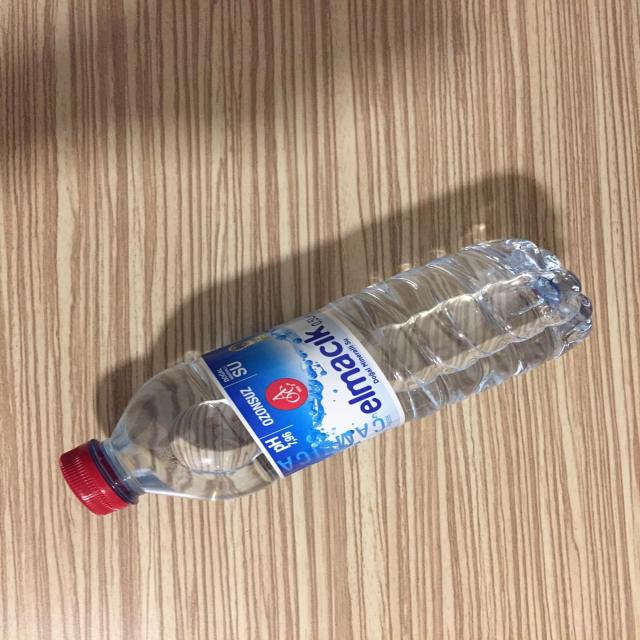anorganik: (75, 247, 568, 487)
